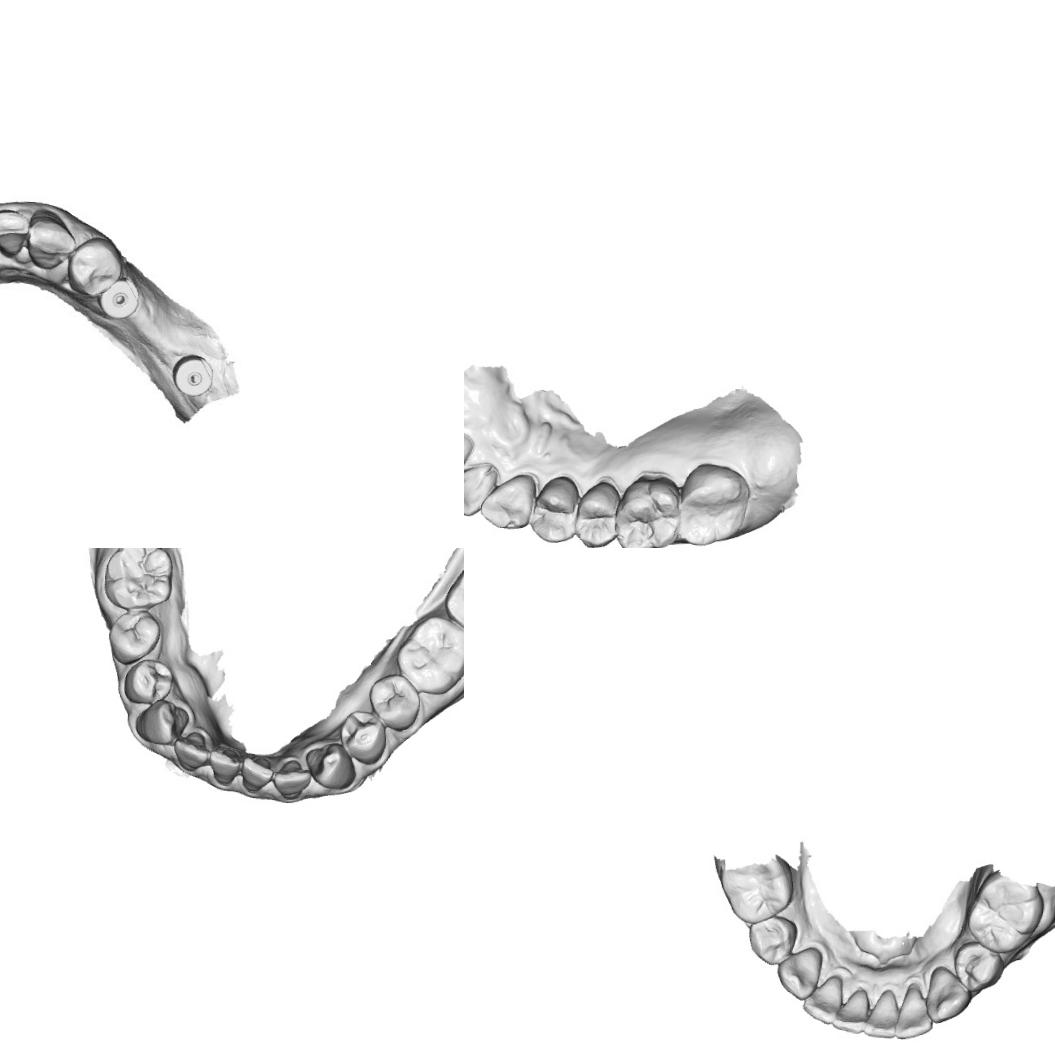canine: (478, 470, 538, 530), (25, 208, 77, 271), (924, 964, 974, 1026), (302, 740, 358, 790), (134, 696, 189, 746), (774, 944, 823, 1000)
implant: (94, 274, 140, 320), (170, 352, 213, 398)
incisor: (800, 972, 844, 1026), (893, 985, 934, 1041), (862, 986, 900, 1039), (829, 984, 869, 1034), (464, 459, 498, 517), (270, 757, 312, 800), (172, 730, 208, 771), (0, 208, 29, 258), (207, 744, 241, 786), (238, 753, 274, 792)
molar: (964, 871, 1046, 956), (676, 461, 752, 548), (392, 611, 464, 696), (716, 854, 794, 926), (612, 472, 681, 548), (101, 548, 174, 612), (441, 559, 464, 639)
premolar: (64, 235, 123, 300), (527, 473, 580, 544), (573, 478, 622, 548), (106, 607, 162, 667), (366, 671, 421, 732), (950, 939, 1006, 994), (746, 912, 798, 967), (337, 709, 388, 765), (122, 657, 174, 705)
